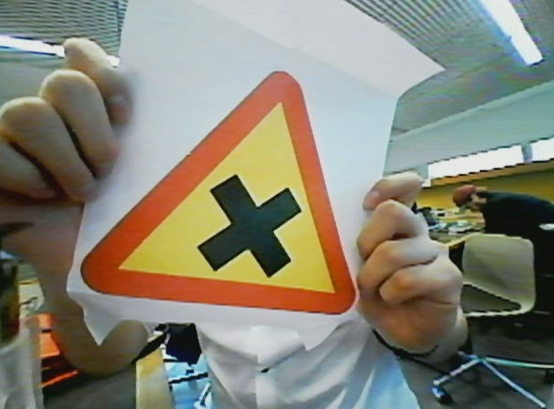junction: (44, 22, 379, 324)
